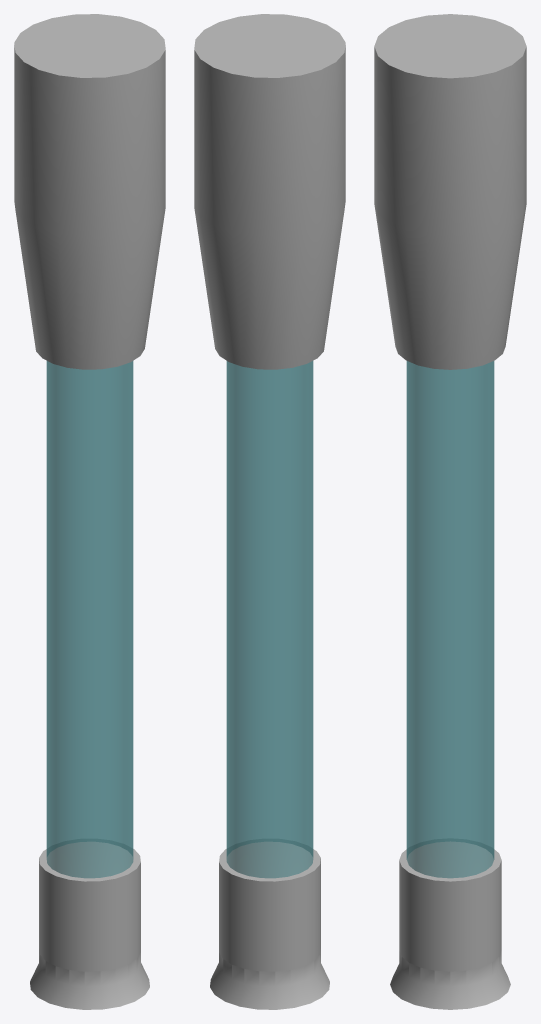
The model's file is Stage_3_room_pillar_low.fbx.
The picture shows the model from 3 angles, left to right: view 1: azimuth 30°, elevation 25°; view 2: azimuth 150°, elevation 25°; view 3: azimuth 270°, elevation 25°; orthographic projection.
Parts seen in each view (by area): view 1: pCylinder2; view 2: pCylinder2; view 3: pCylinder2.
Boxes of the visible parts, x1,y1,x2,y2 form: pCylinder2: [14, 14, 165, 1009]; pCylinder2: [194, 14, 345, 1009]; pCylinder2: [374, 14, 526, 1009].
Size of the model in its own units: 1.45 by 9.86 by 1.45.
